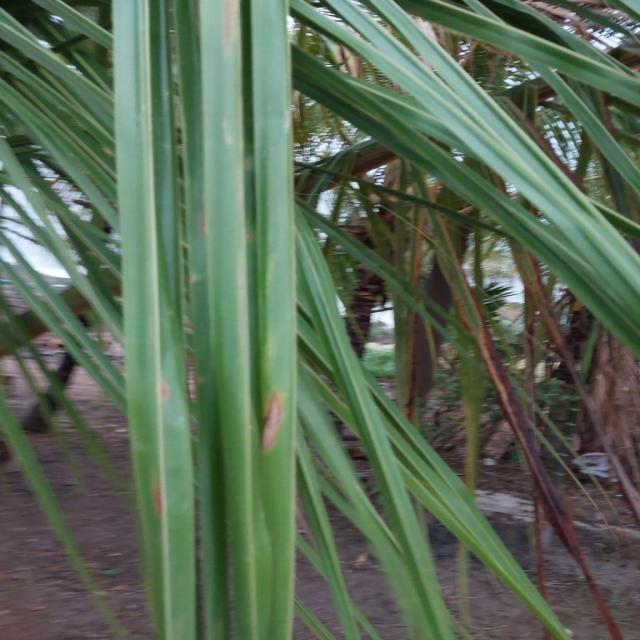gray leaf spot: (427, 202, 627, 639), (260, 365, 305, 464)
